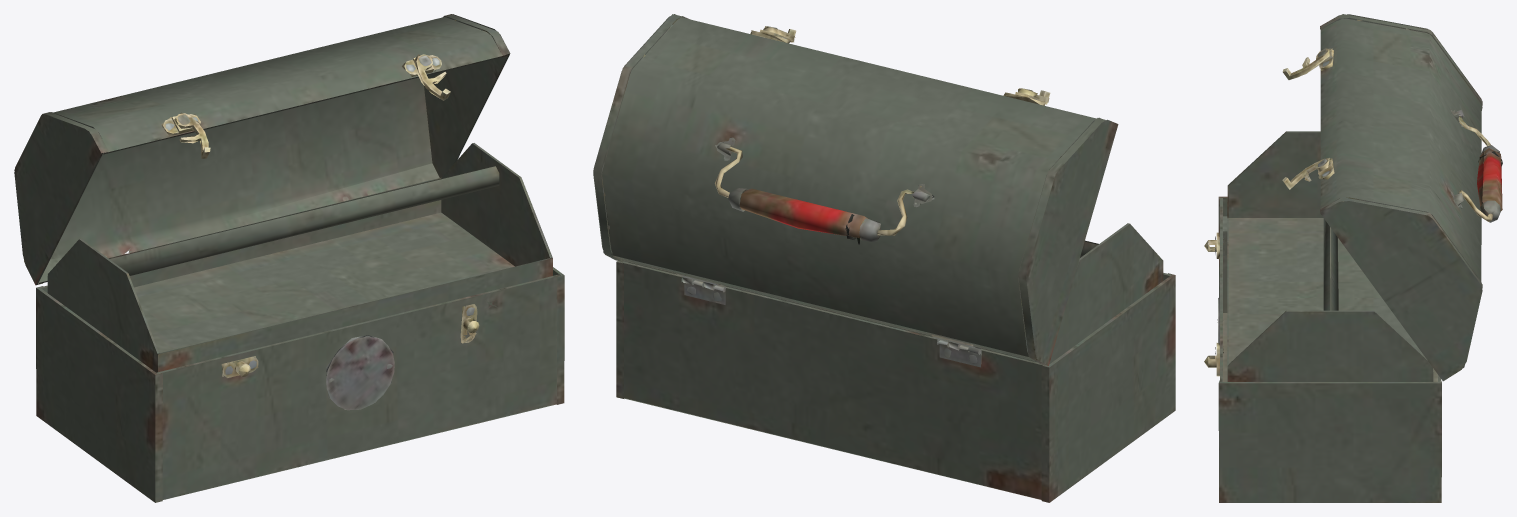
Rendered from metal_toolbox.glb.
The picture shows the model from 3 angles, left to right: view 1: azimuth 30°, elevation 25°; view 2: azimuth 150°, elevation 25°; view 3: azimuth 270°, elevation 25°; orthographic projection. The views are drawn at different scales.
Visible parts, largest first — view 1: metal_toolbox; view 2: metal_toolbox; view 3: metal_toolbox.
Boxes of the visible parts, <box> form: metal_toolbox: <box>14,14,564,502</box>; metal_toolbox: <box>593,14,1175,502</box>; metal_toolbox: <box>1204,14,1502,502</box>.
Size of the model in its own units: 0.4 by 0.3055 by 0.2706.
1 material, 1 textured.
